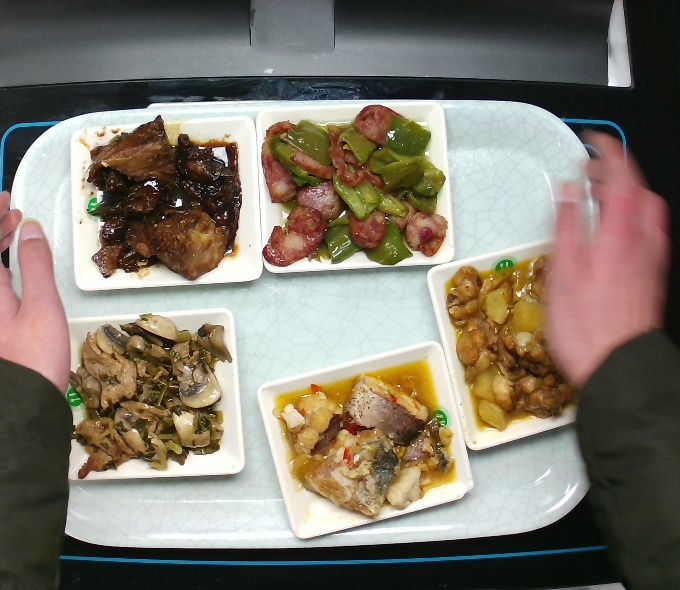wcq-JiangZhiYa: (84, 114, 244, 283)
wcq-MoGuRouPian: (72, 312, 234, 477)
wcq-QingJiaoXiangChang: (259, 102, 449, 266)
wcq-SuanCaiYu: (274, 357, 456, 516)
